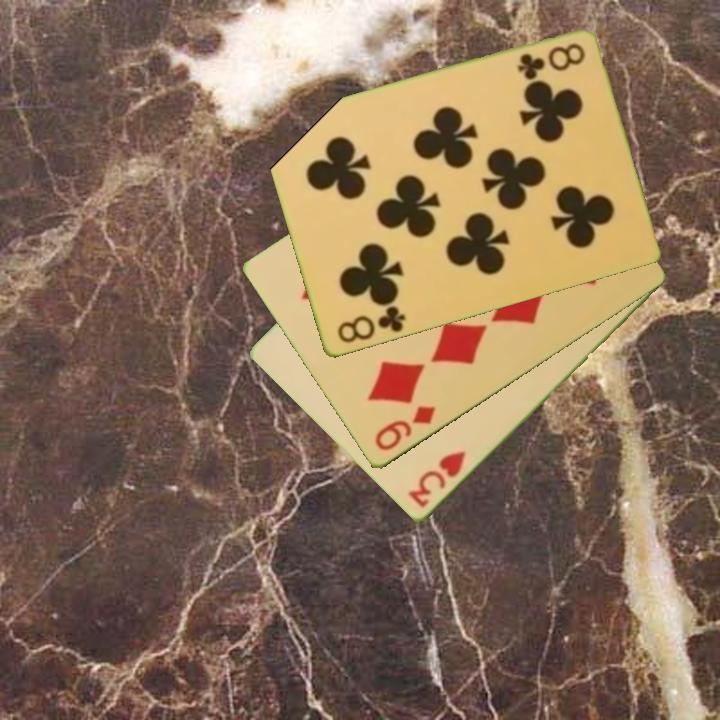3h: (404, 448, 469, 512)
8c: (333, 303, 408, 347), (513, 40, 588, 83)
9d: (371, 402, 439, 455)
